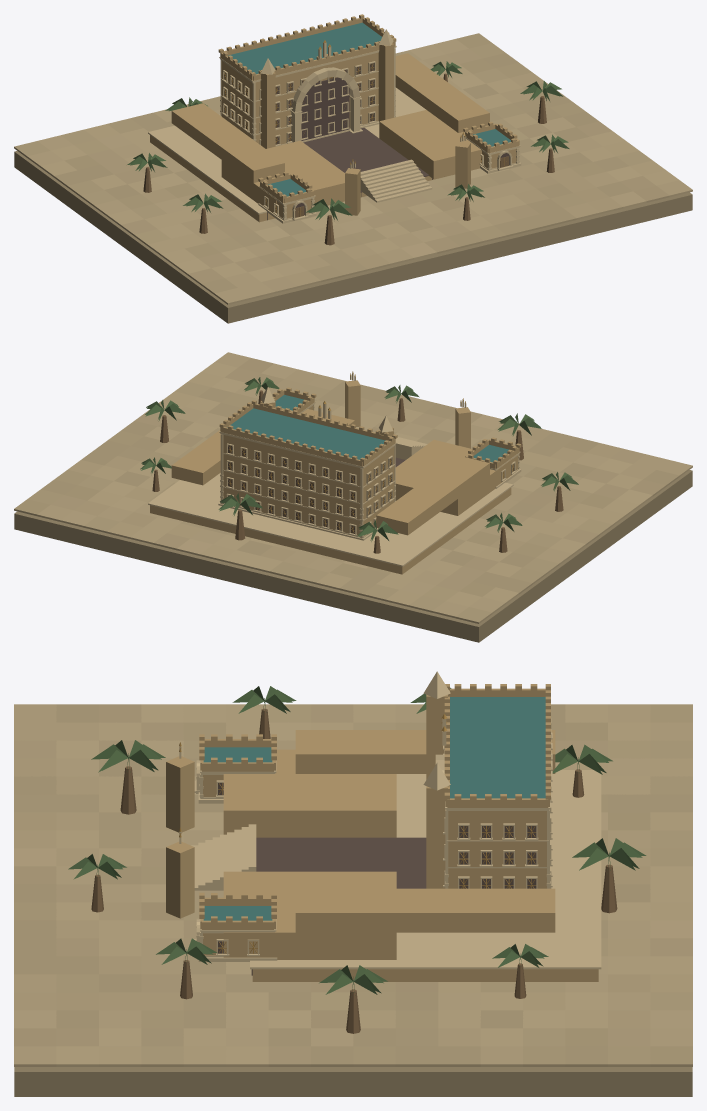
The model's file is labyrinth.glb.
The picture shows the model from 3 angles, top to bottom: view 1: azimuth 30°, elevation 25°; view 2: azimuth 150°, elevation 25°; view 3: azimuth 270°, elevation 25°; orthographic projection. The views are drawn at different scales.
Visible parts, largest first — view 1: site, excavation, portal, portal-roof, landscape, survey-camp, survey-camp-roof; view 2: site, excavation, portal, portal-roof, landscape, survey-camp-roof, survey-camp; view 3: site, excavation, portal, portal-roof, landscape, survey-camp, survey-camp-roof.
Boxes of the visible parts, box(x1,y1,x2,y2) form: site: box(14, 33, 692, 323); excavation: box(148, 53, 489, 222); portal: box(219, 29, 396, 148); portal-roof: box(218, 14, 396, 80); landscape: box(127, 61, 569, 245); survey-camp: box(258, 136, 521, 223); survey-camp-roof: box(258, 121, 519, 203); site: box(14, 352, 692, 642); excavation: box(148, 409, 513, 574); portal: box(218, 387, 396, 540); portal-roof: box(219, 400, 397, 466); landscape: box(140, 377, 578, 553); survey-camp-roof: box(272, 387, 521, 468); survey-camp: box(299, 380, 521, 488); site: box(14, 704, 692, 1096); excavation: box(191, 730, 601, 981); portal: box(423, 671, 552, 888); portal-roof: box(444, 684, 550, 807); landscape: box(68, 686, 646, 1033); survey-camp: box(166, 756, 277, 961); survey-camp-roof: box(199, 734, 276, 929).
Size of the model in its own units: 59.01 by 15.55 by 47.06.
